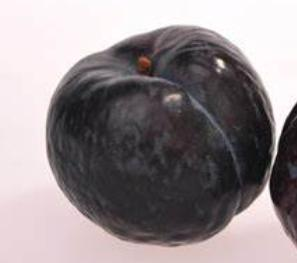plum_B: (47, 26, 277, 248)
